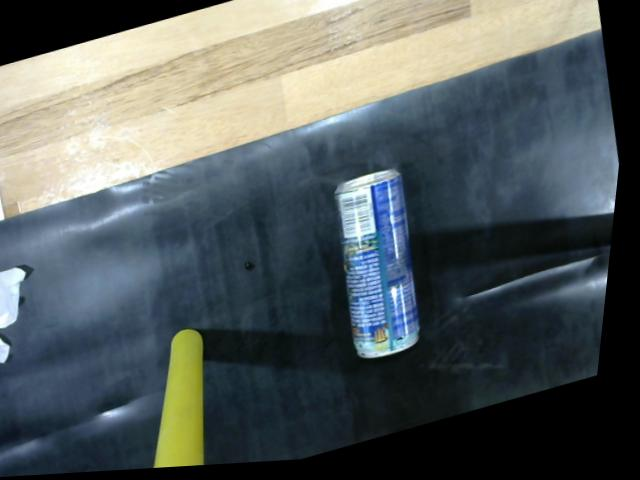can: (327, 166, 434, 370)
